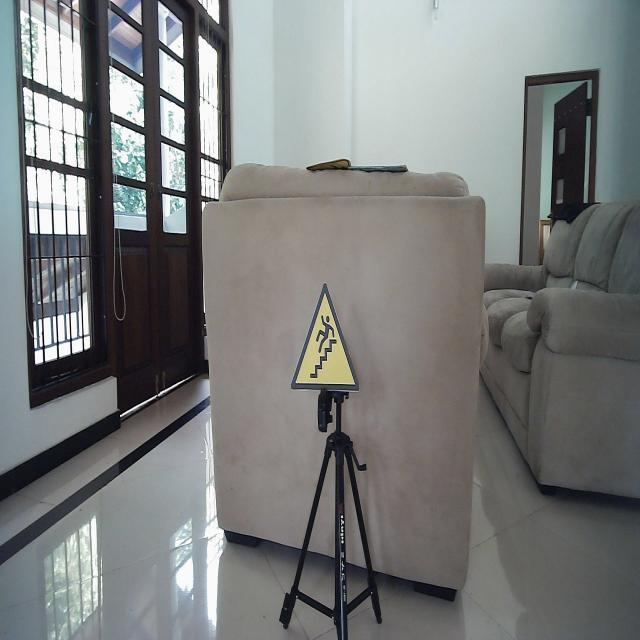stairs: (289, 281, 361, 392)
